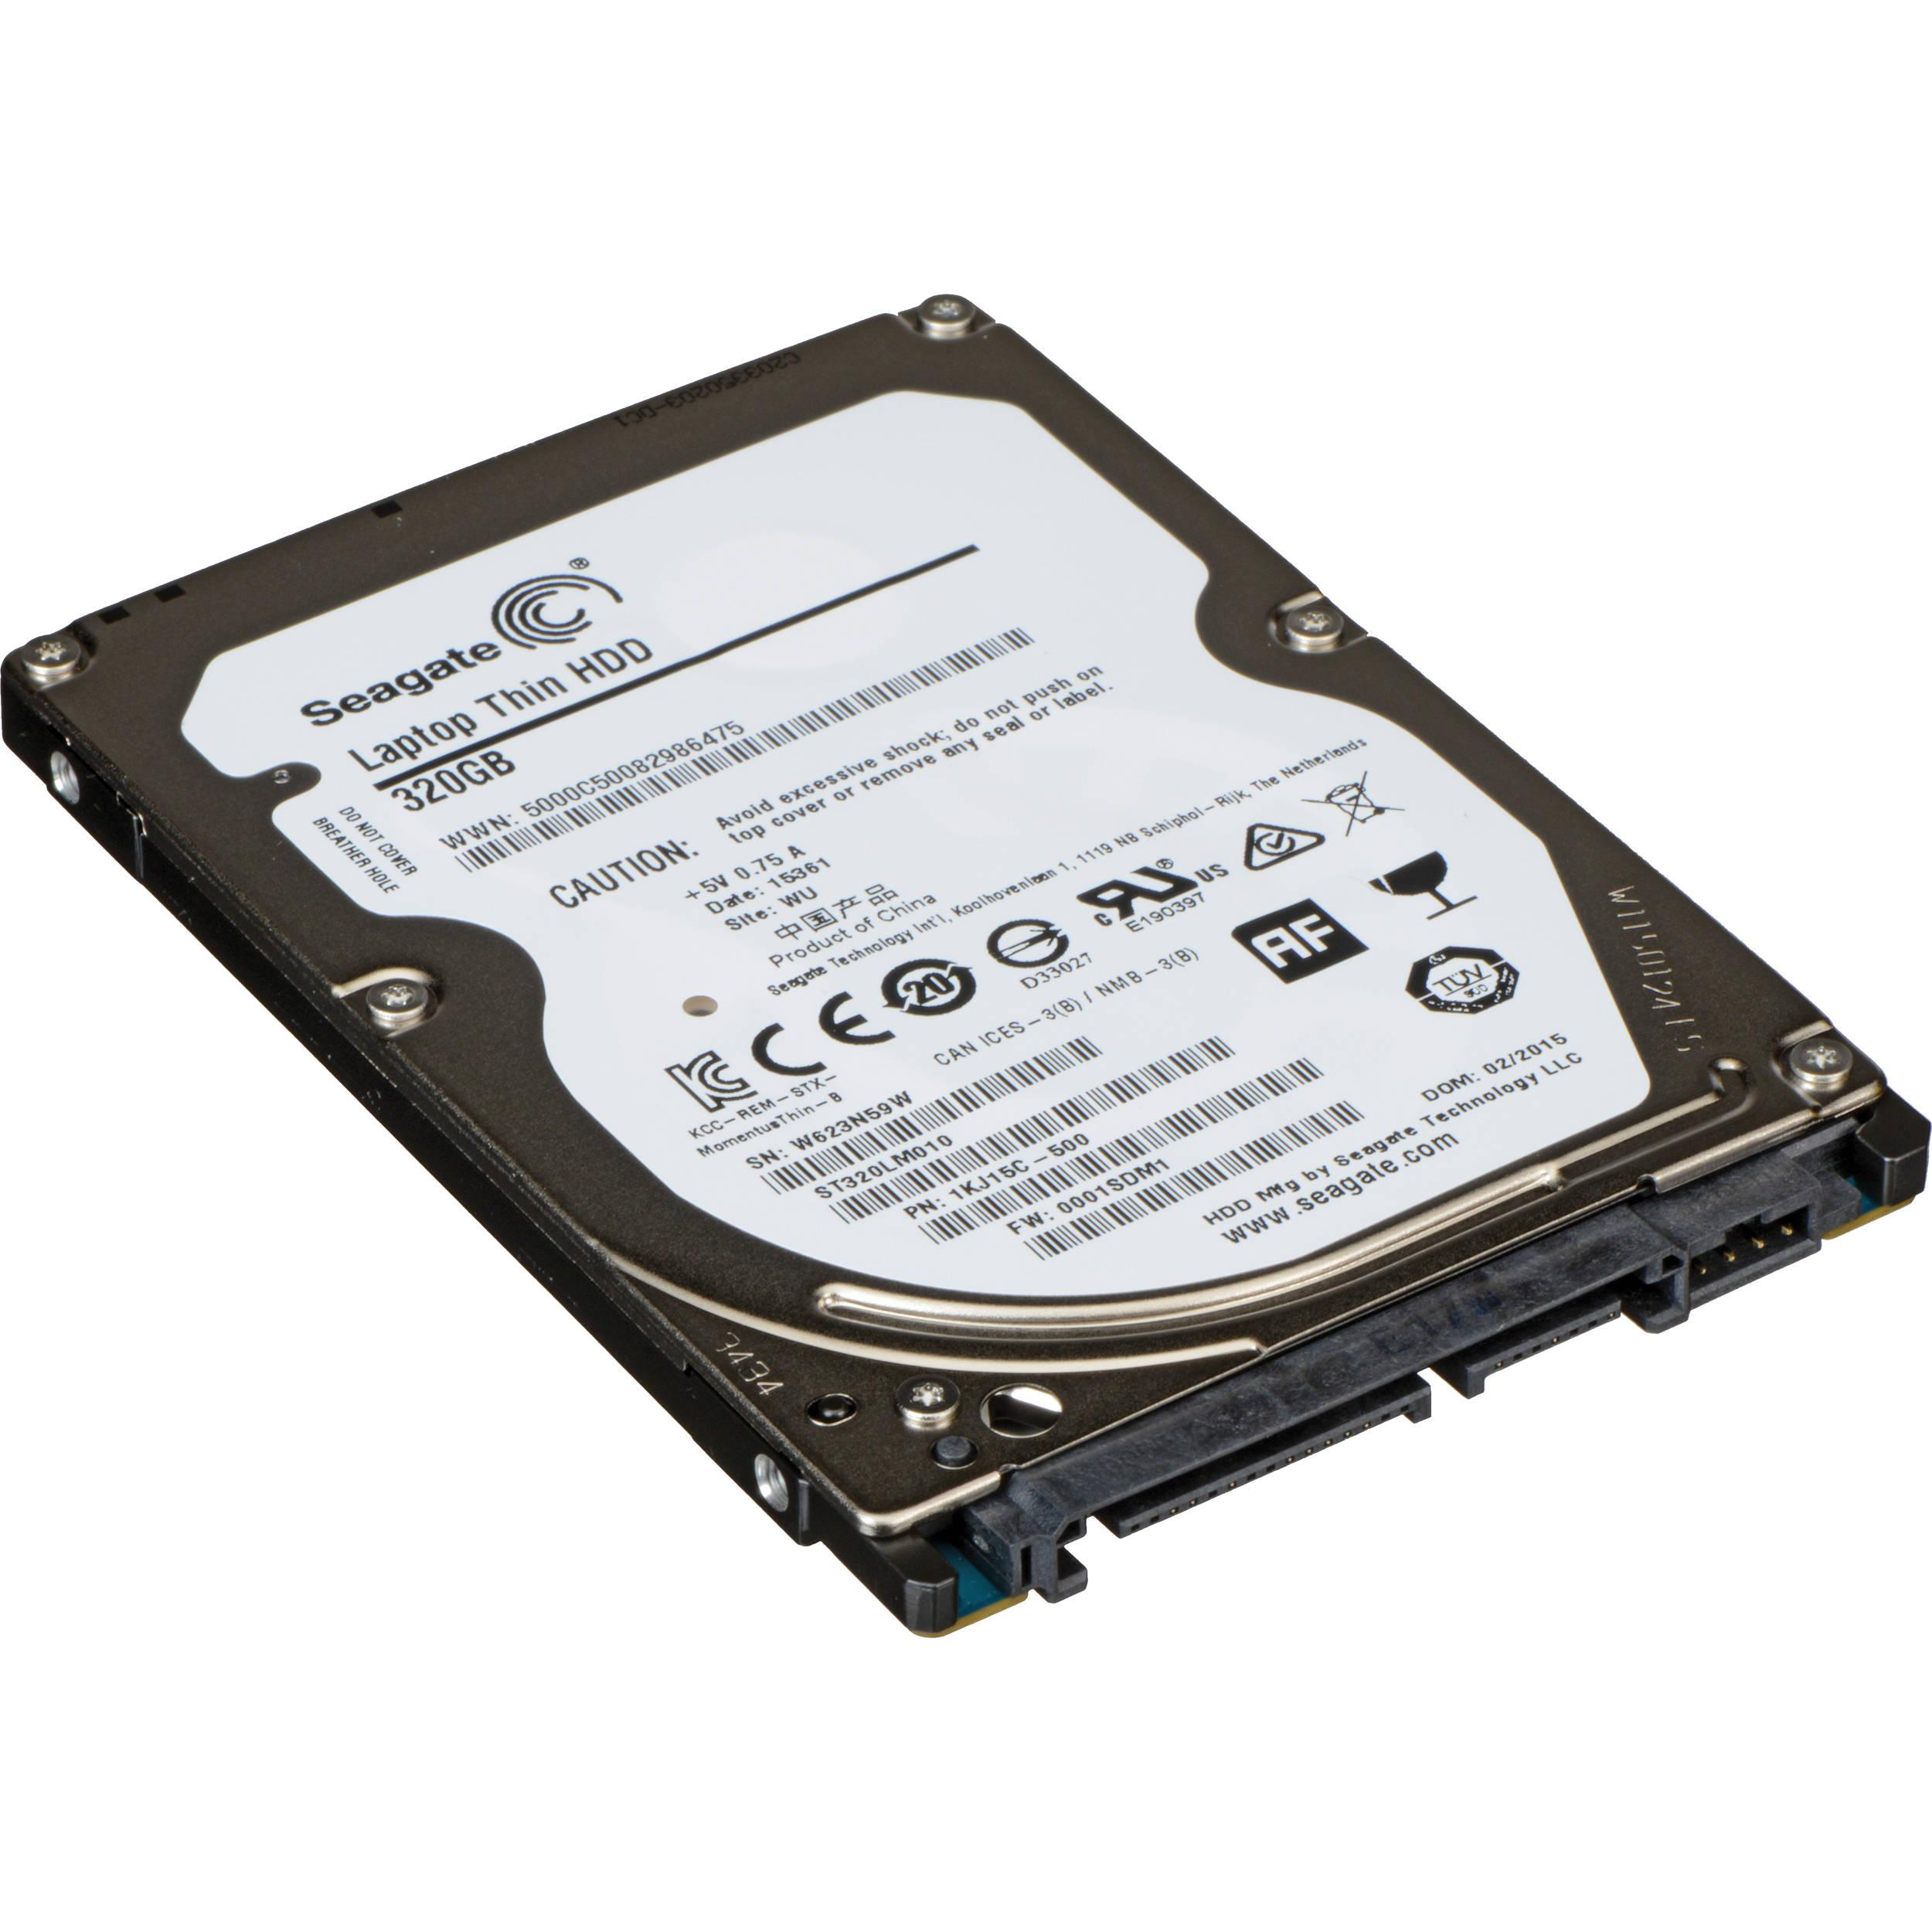internal HDD: (0, 294, 1932, 1644)
